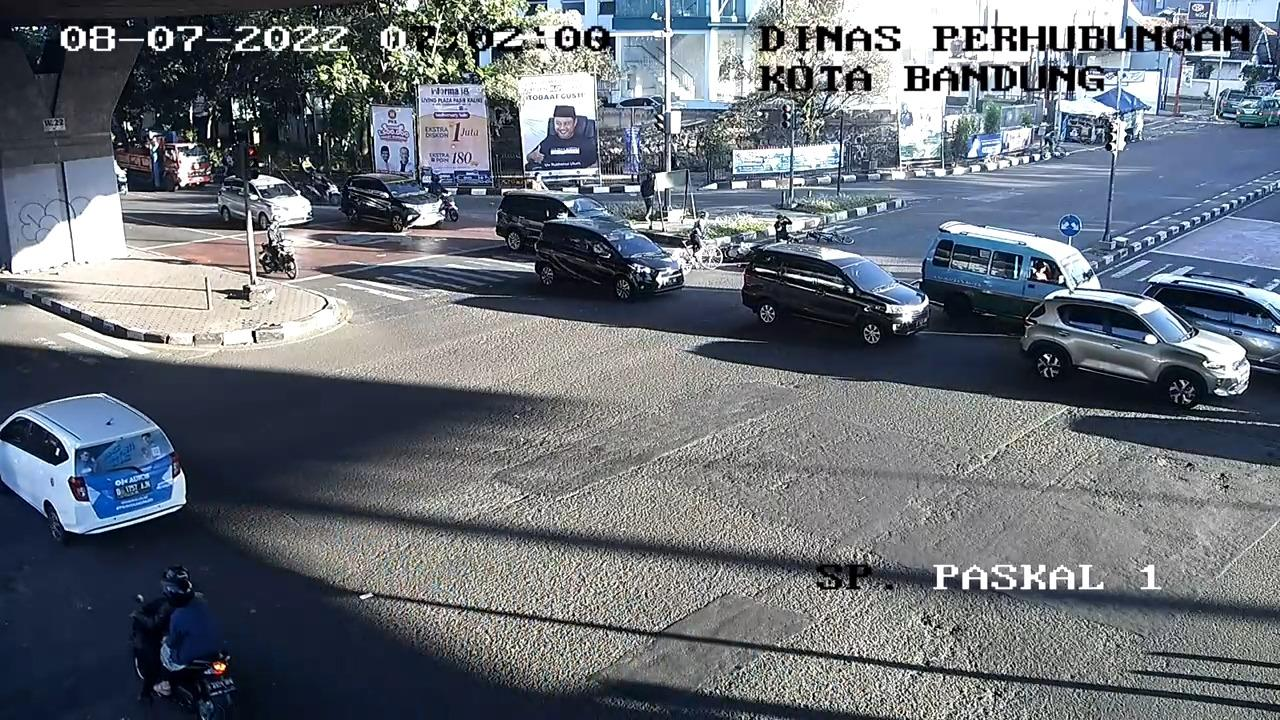accident: (763, 202, 804, 243)
